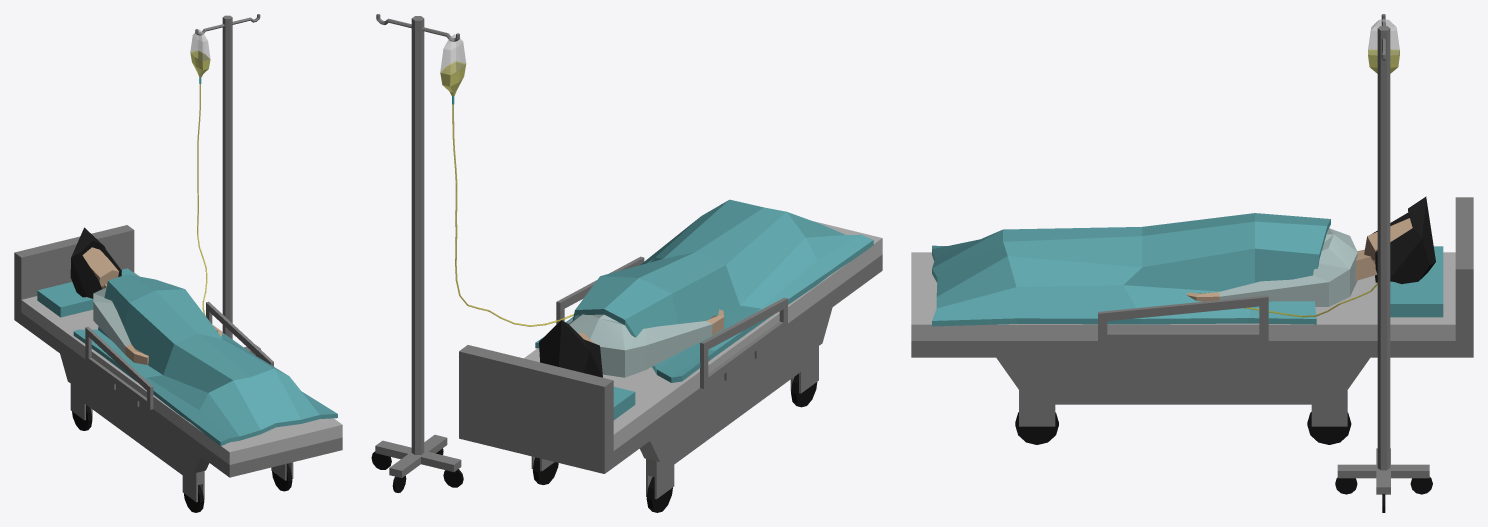
Rendered from hospial2.fbx.
3 renders of one model, left to right at view 1: azimuth 30°, elevation 25°; view 2: azimuth 150°, elevation 25°; view 3: azimuth 270°, elevation 25°, orthographic. The views are drawn at different scales.
Parts seen in each view (by area): view 1: woman_03; view 2: woman_03; view 3: woman_03.
Part boxes in pixels (left/top/right/bottom): woman_03: left=14, top=14, right=342, bottom=512; woman_03: left=371, top=14, right=882, bottom=512; woman_03: left=911, top=14, right=1473, bottom=512.
Bounding box in the file's own units: 539 × 844 × 924.
